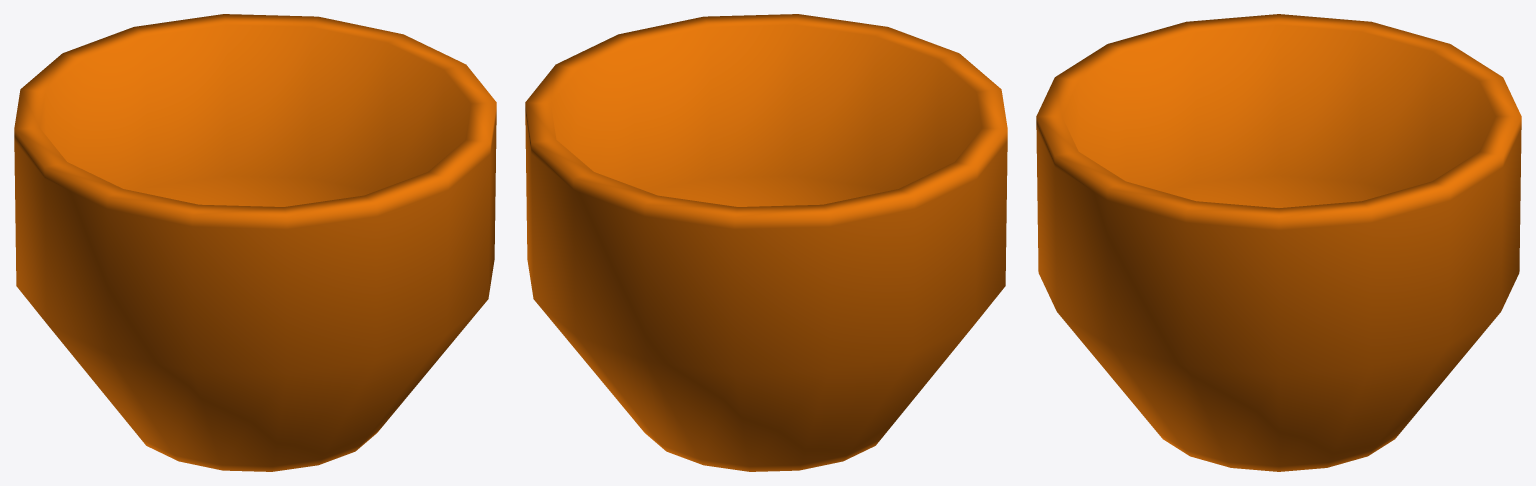
Rendered from Pot1.glb.
3 views of the same model, side by side, from view 1: azimuth 30°, elevation 25°; view 2: azimuth 150°, elevation 25°; view 3: azimuth 270°, elevation 25° (orthographic).
Parts seen in each view (by area): view 1: Pot1; view 2: Pot1; view 3: Pot1.
Part boxes in pixels (box(x1,y1,x2,y2)): Pot1: box(14, 14, 496, 471); Pot1: box(525, 14, 1007, 471); Pot1: box(1036, 14, 1521, 471).
Size of the model in its own units: 0.1164 by 0.08 by 0.1164.
